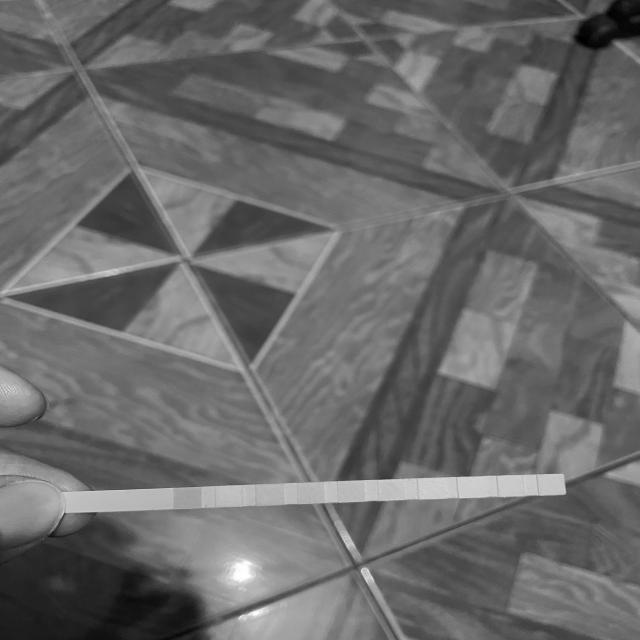Bilirubin: (215, 487, 242, 506)
Blood: (338, 481, 364, 502)
Glucose: (174, 489, 202, 508)
Ketone: (256, 484, 283, 504)
Leukocytes: (540, 474, 564, 494)
Nitrite: (498, 476, 522, 496)
Protein: (419, 479, 444, 499)
SpGravity: (298, 483, 324, 502)
Urobilinogen: (458, 477, 484, 498)
background: (0, 0, 640, 640)
pH: (378, 480, 404, 500)
strip: (69, 474, 567, 514)
